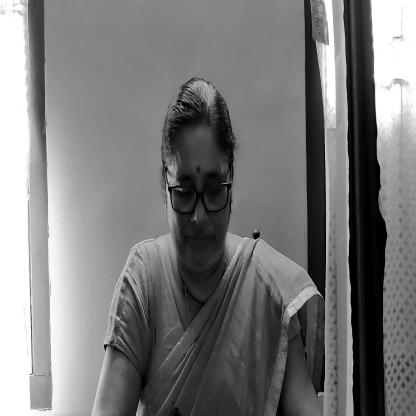Normal: (160, 84, 238, 269)
